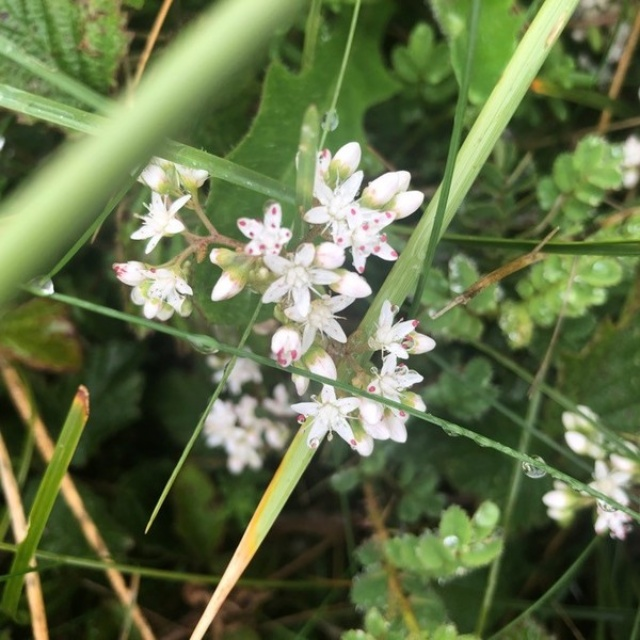obstacle: (68, 92, 427, 501), (431, 92, 571, 369), (281, 482, 537, 605)
